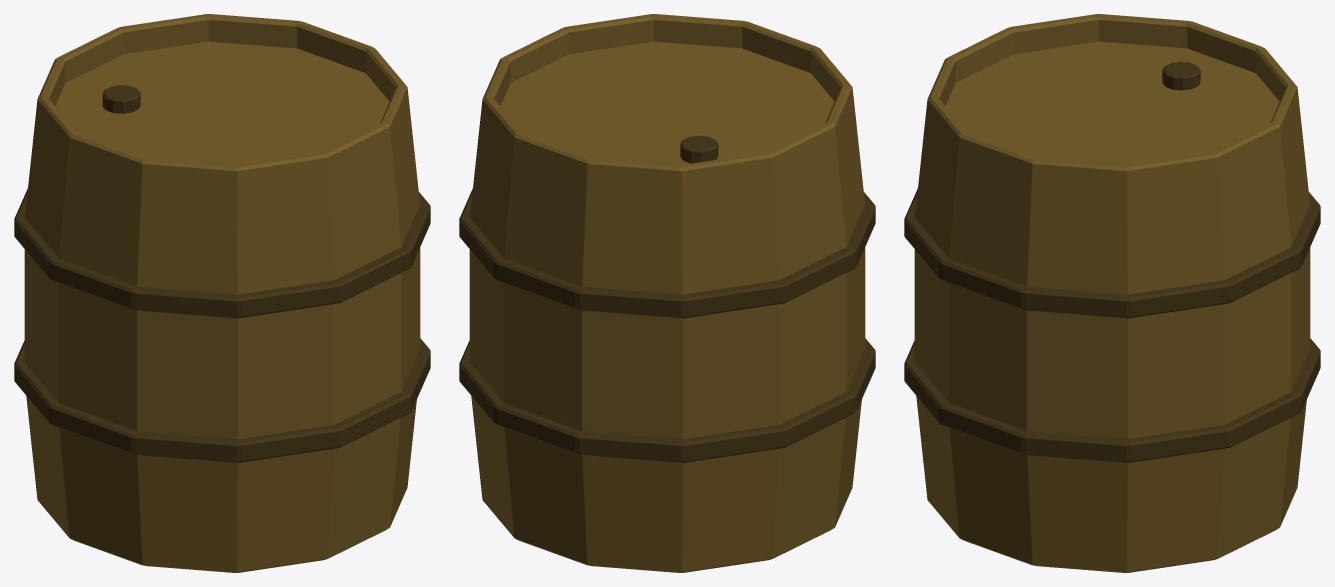
File: Barrel.fbx
3 views of the same model, side by side, from view 1: azimuth 30°, elevation 25°; view 2: azimuth 150°, elevation 25°; view 3: azimuth 270°, elevation 25° (orthographic).
Parts seen in each view (by area): view 1: barrel; view 2: barrel; view 3: barrel.
Part boxes in pixels (x1,y1,x2,y2): barrel: (14,14,430,572); barrel: (459,14,875,572); barrel: (904,14,1320,572).
Size of the model in its own units: 280 by 301 by 280.
